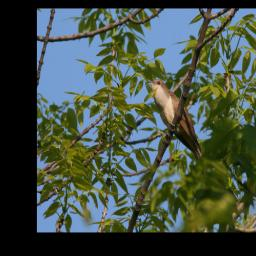Cuckoo: (147, 79, 204, 163)
